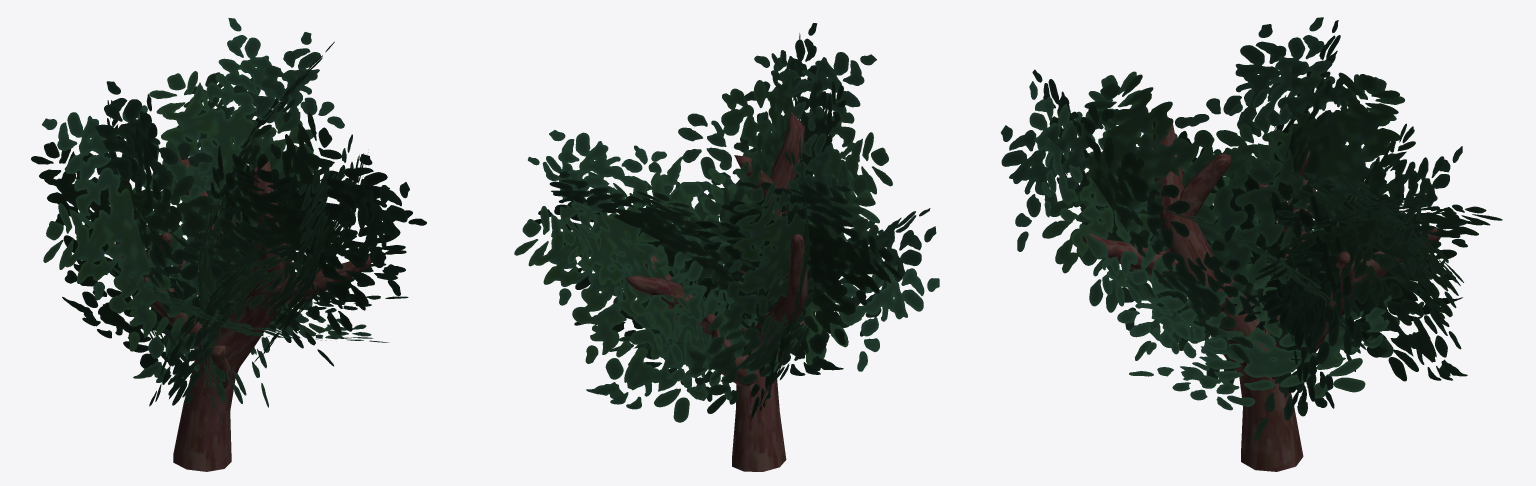
The model's file is PRM Bush.fbx.
The picture shows the model from 3 angles, left to right: view 1: azimuth 30°, elevation 25°; view 2: azimuth 150°, elevation 25°; view 3: azimuth 270°, elevation 25°; orthographic projection. The views are drawn at different scales.
Visible parts, largest first — view 1: Bush_LOD0; view 2: Bush_LOD0; view 3: Bush_LOD0.
Part boxes in pixels (bbox=[...]): Bush_LOD0: bbox=[31, 18, 426, 471]; Bush_LOD0: bbox=[514, 23, 939, 471]; Bush_LOD0: bbox=[1000, 17, 1502, 471].
Size of what is drawn, in the model's own units: 363 by 363 by 419.
